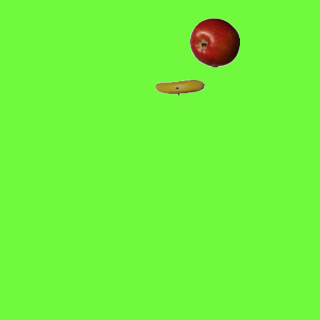Apple Braeburn: (189, 17, 239, 67)
Banana: (154, 62, 204, 112)
